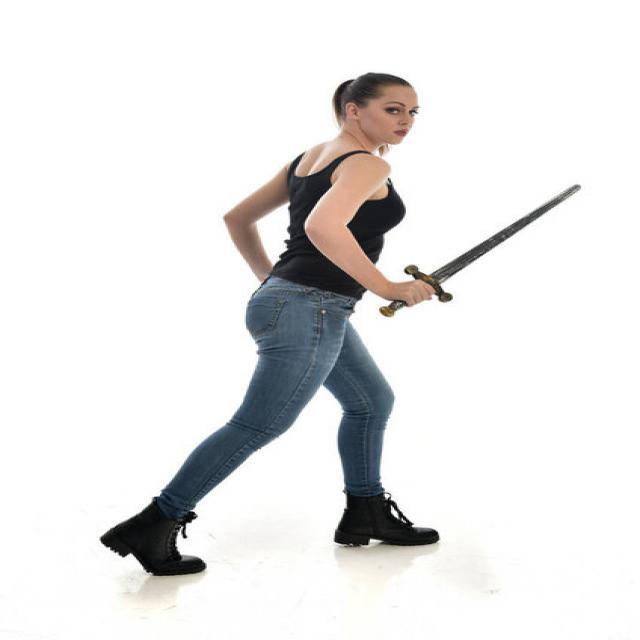long sword: (377, 178, 583, 320)
